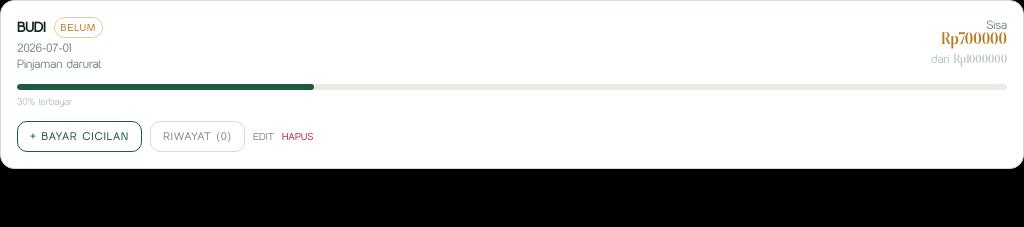
Scenario: KasbonCard › shows Belum ada riwayat when no cicilan and expanded
This screenshot has width=1024, height=227.
Click the button "Riwayat (0)". click: (197, 136)
box: top-left (150, 121), bottom-right (245, 152)
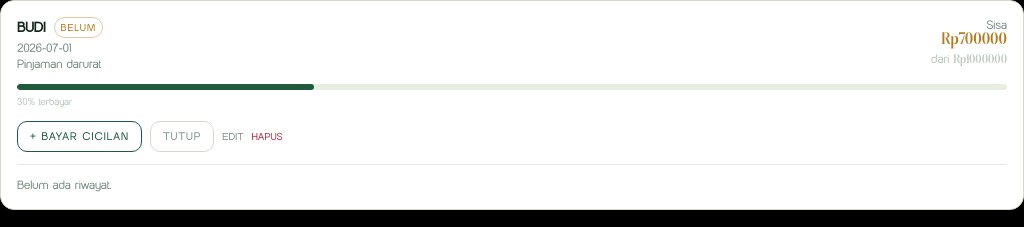
Expected: the text "Belum ada riwayat." is shown, top-left (17, 164), bottom-right (1007, 192)
